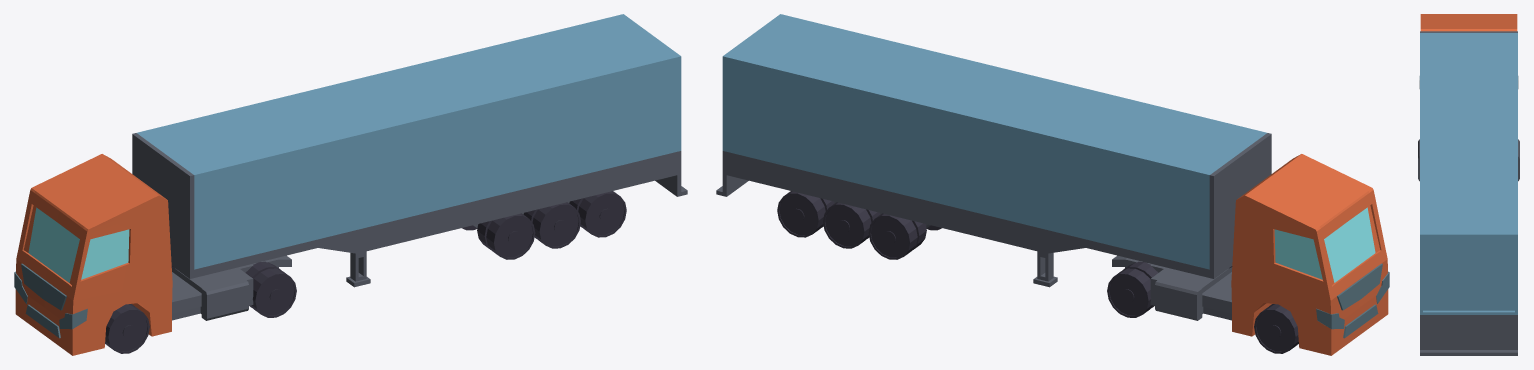
Rendered from Prop_Truck.fbx.
3 renders of one model, left to right at view 1: azimuth 30°, elevation 25°; view 2: azimuth 150°, elevation 25°; view 3: azimuth 270°, elevation 25°, orthographic. The views are drawn at different scales.
Visible parts, largest first — view 1: Prop_Truck; view 2: Prop_Truck; view 3: Prop_Truck.
Part boxes in pixels (<box>): Prop_Truck: <box>14,14,687,355</box>; Prop_Truck: <box>716,14,1389,355</box>; Prop_Truck: <box>1418,14,1519,355</box>.
Bounding box in the file's own units: 250 × 1484 × 375.
